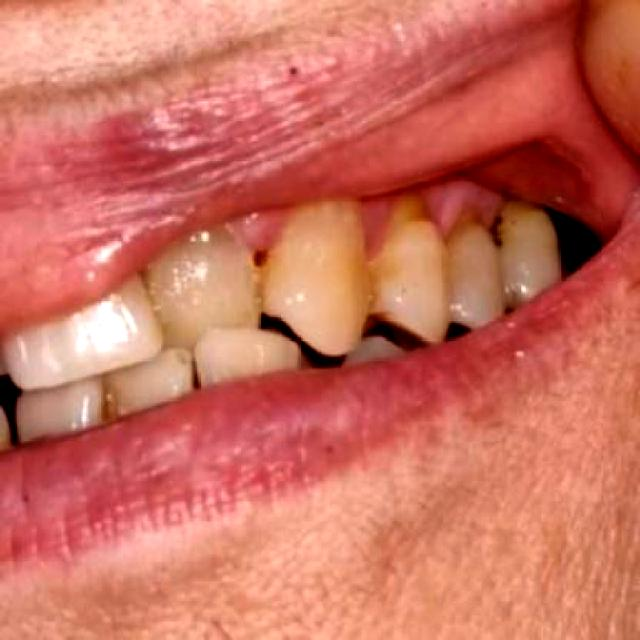Plaque: (425, 182, 504, 233), (233, 210, 291, 254), (366, 201, 393, 257)
